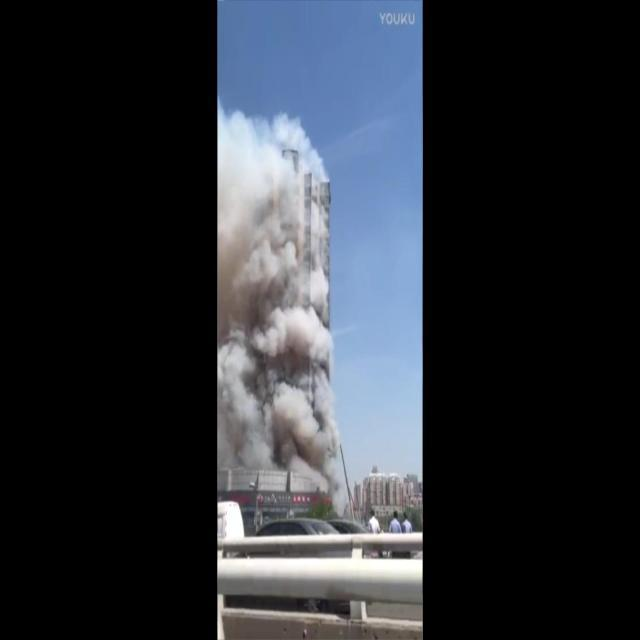Smoke: (218, 99, 340, 482)
